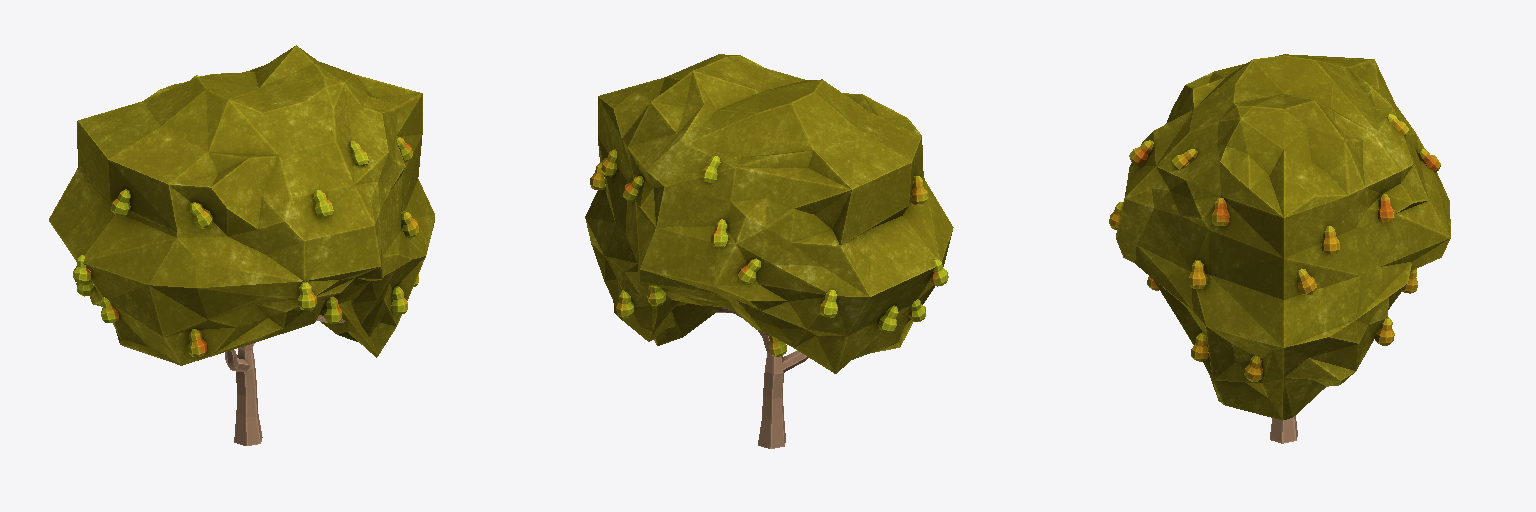
3 views of the same model, side by side, from view 1: azimuth 30°, elevation 25°; view 2: azimuth 150°, elevation 25°; view 3: azimuth 270°, elevation 25° (orthographic).
Visible parts, largest first — view 1: PeerTree_mesh; view 2: PeerTree_mesh; view 3: PeerTree_mesh.
Part boxes in pixels (x1,y1,x2,y2): PeerTree_mesh: (49,45,434,445); PeerTree_mesh: (585,54,953,448); PeerTree_mesh: (1109,54,1450,443).
Bounding box in the file's own units: 12.35 × 12 × 10.1.
Materials: 1 (1 with a texture image).